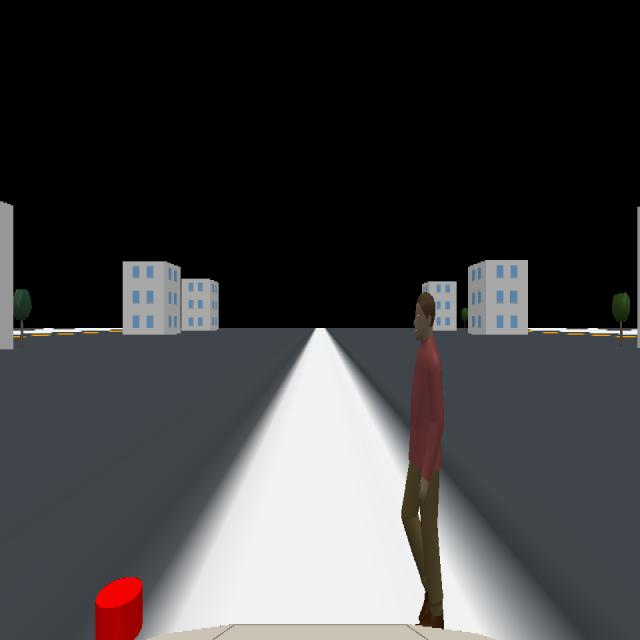human: (400, 291, 444, 628)
